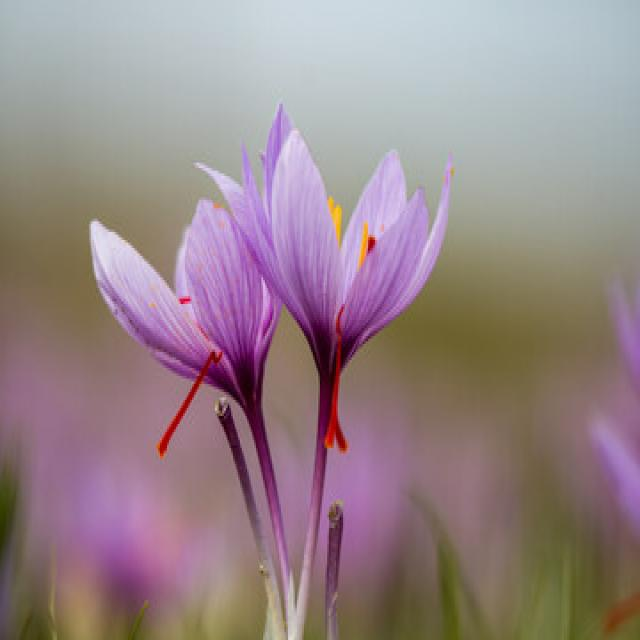saffron open: (201, 109, 452, 638), (91, 201, 291, 608)
